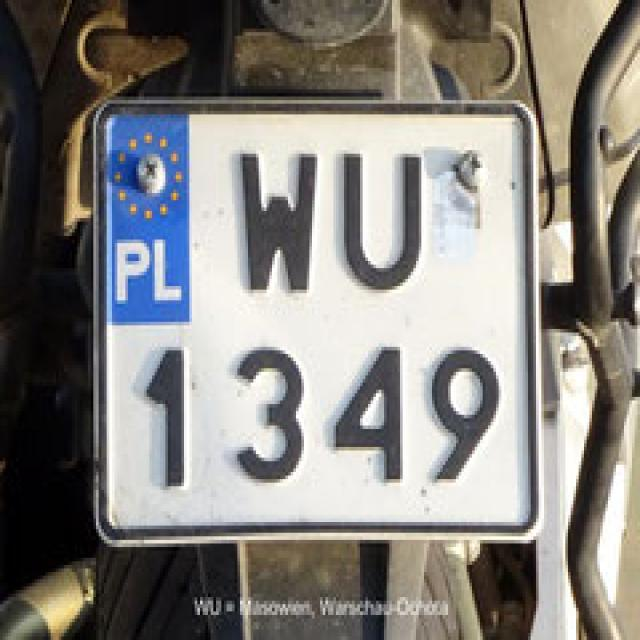pl_license_plate: (99, 107, 536, 529)
